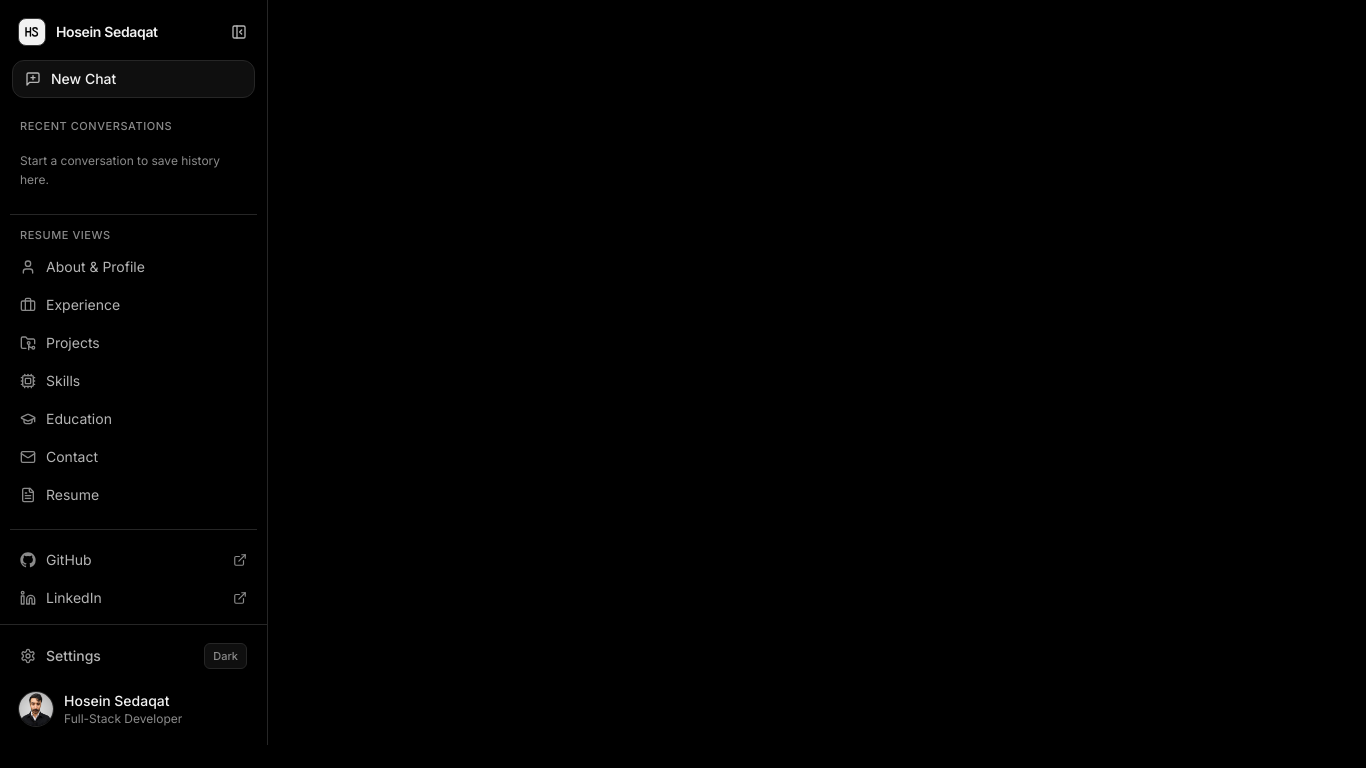
Interactive UI Components › Sidebar Settings button opens SettingsModal with Appearance & Chat controls and no Persian option
The width and height of the screenshot is (1366, 768).
# Click Settings button in Sidebar
Click the button "Settings Dark". click: click(134, 656)
box: [10,635,257,677]
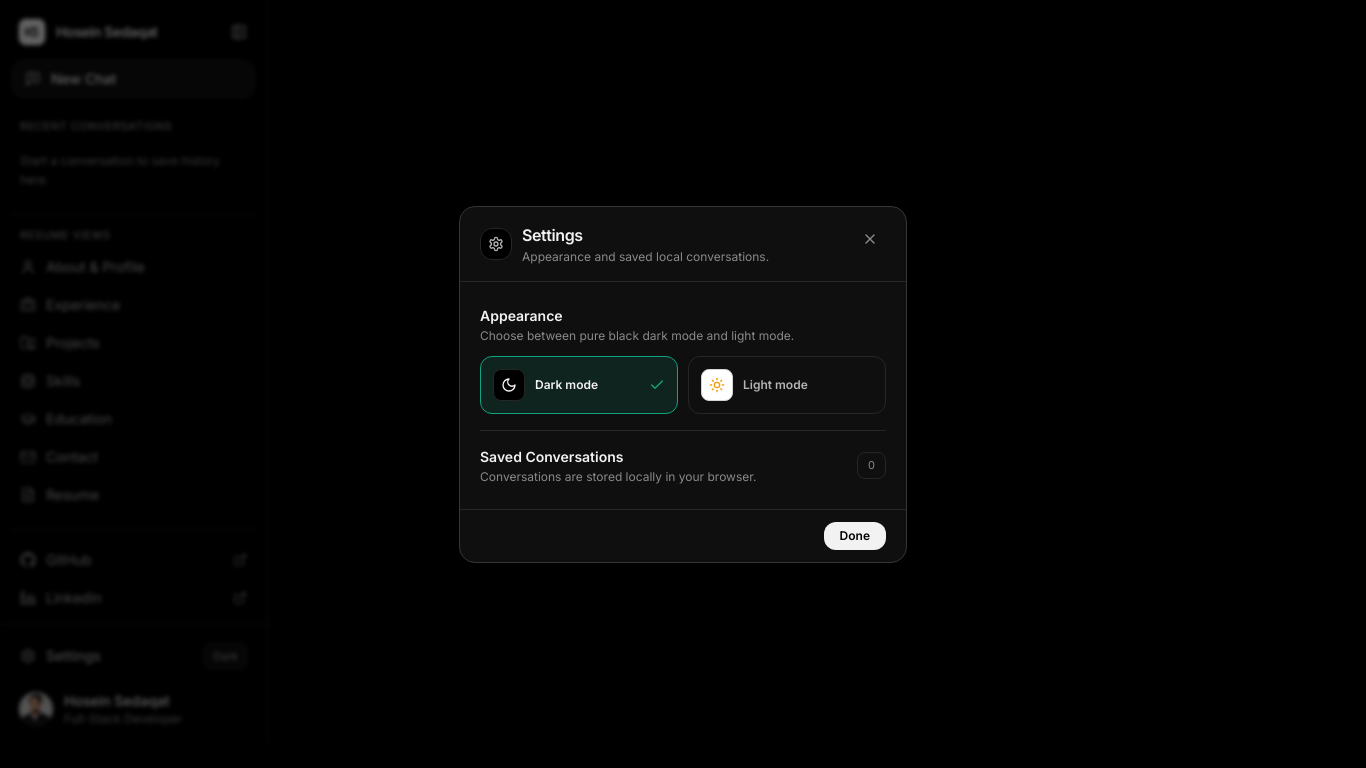
Result: the dialog is shown
# Switch to Light mode inside Settings modal
Click the button "Light mode". click: click(787, 384)
box: [688,356,886,414]
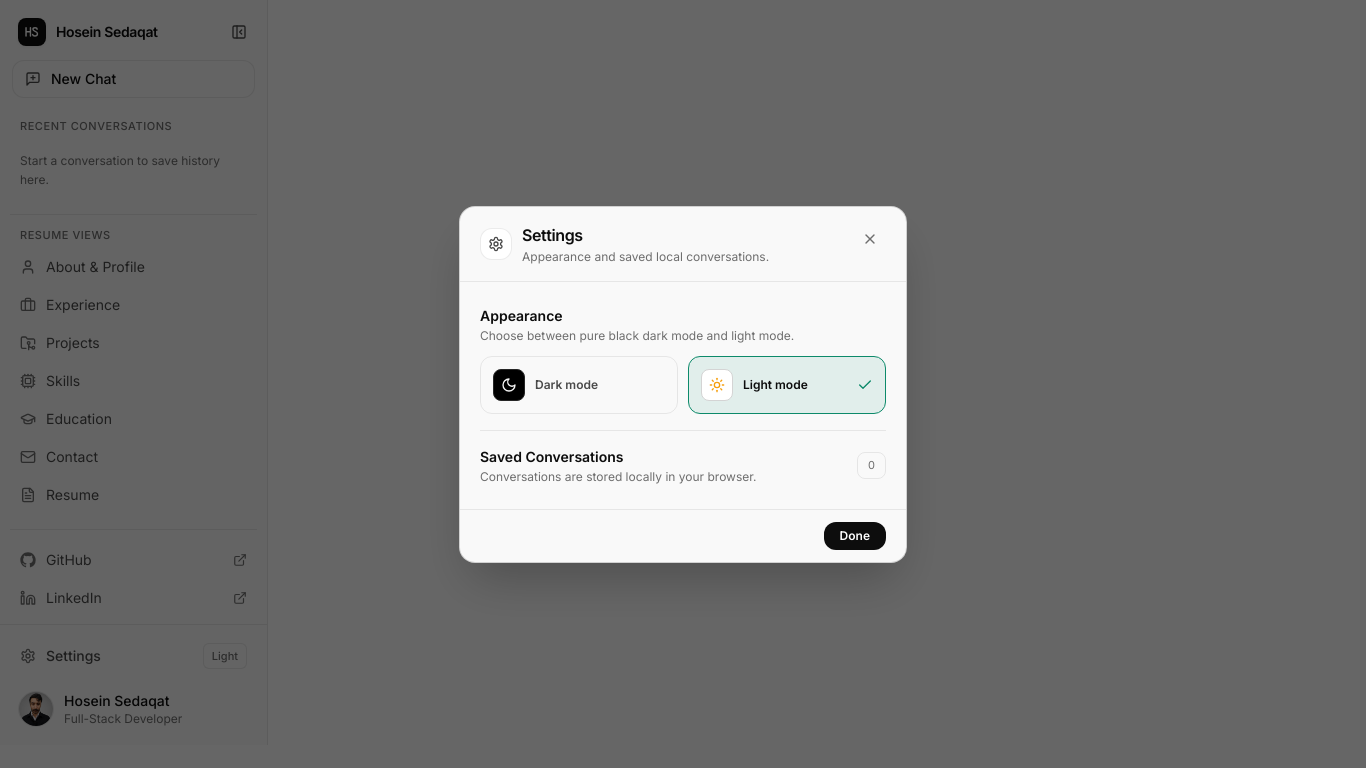
# Close modal via Done button
Click the button "Done". click: click(855, 536)
box: [824,522,886,550]
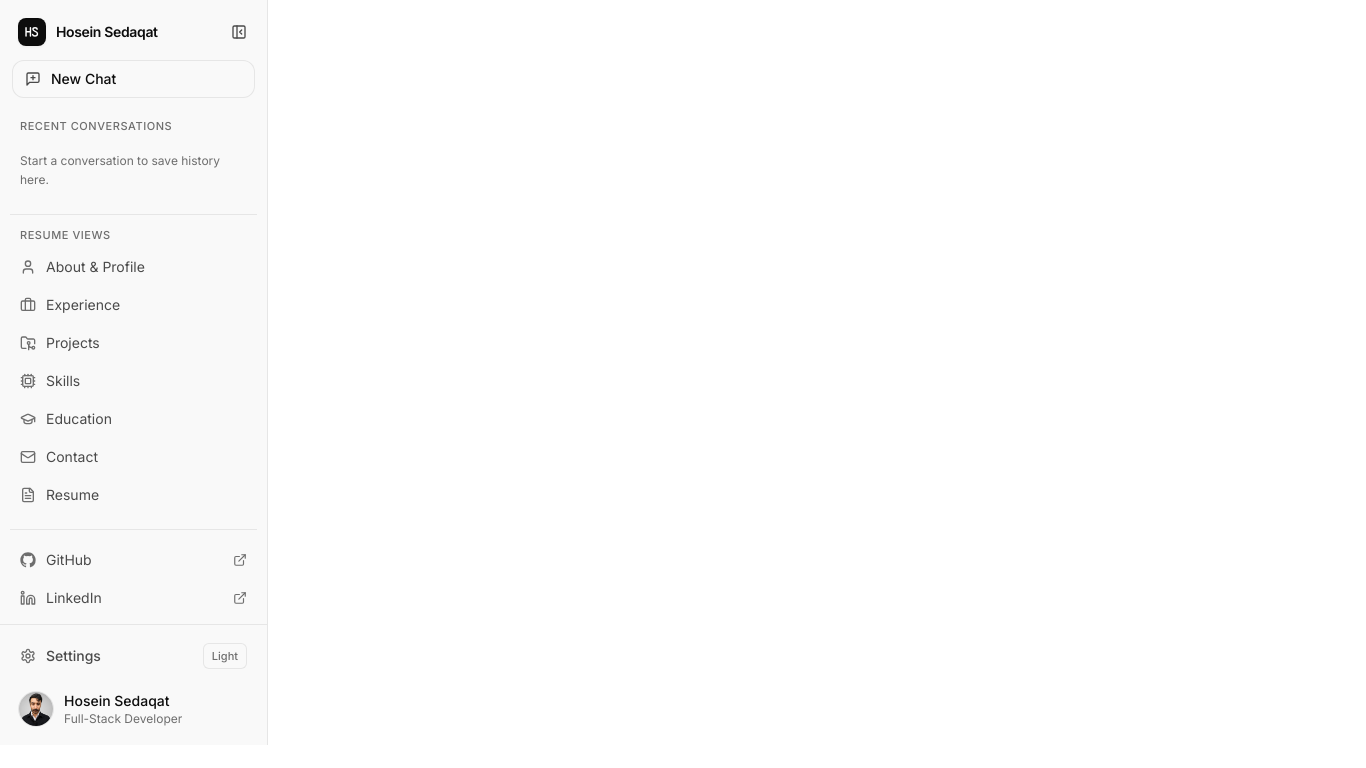
Result: the dialog is gone
